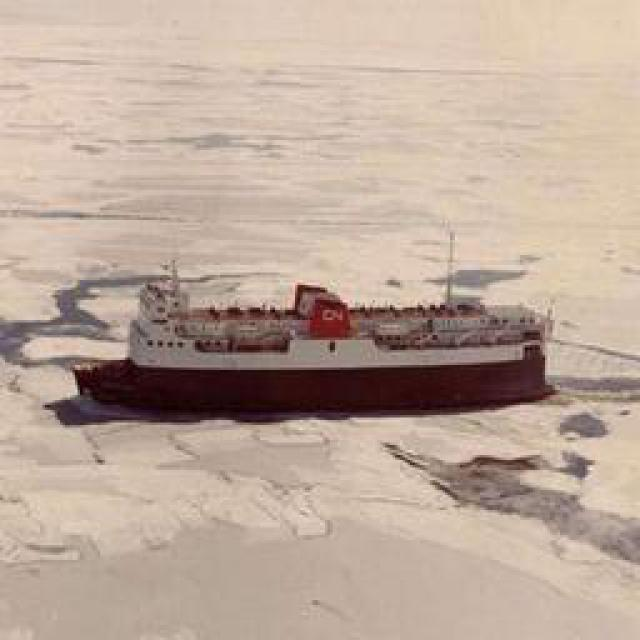Ship: (76, 266, 559, 419)
